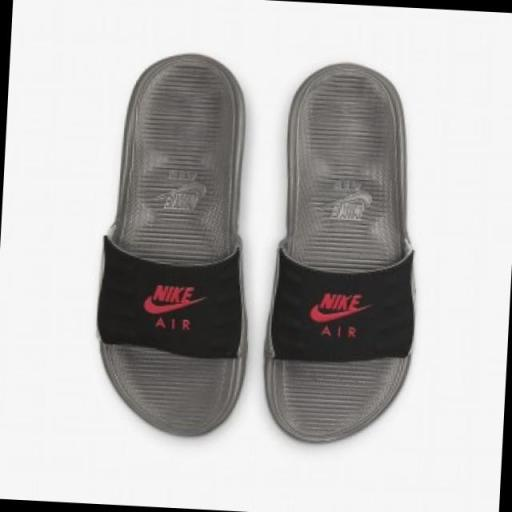Nike: (152, 283, 194, 305), (309, 306, 359, 324)
